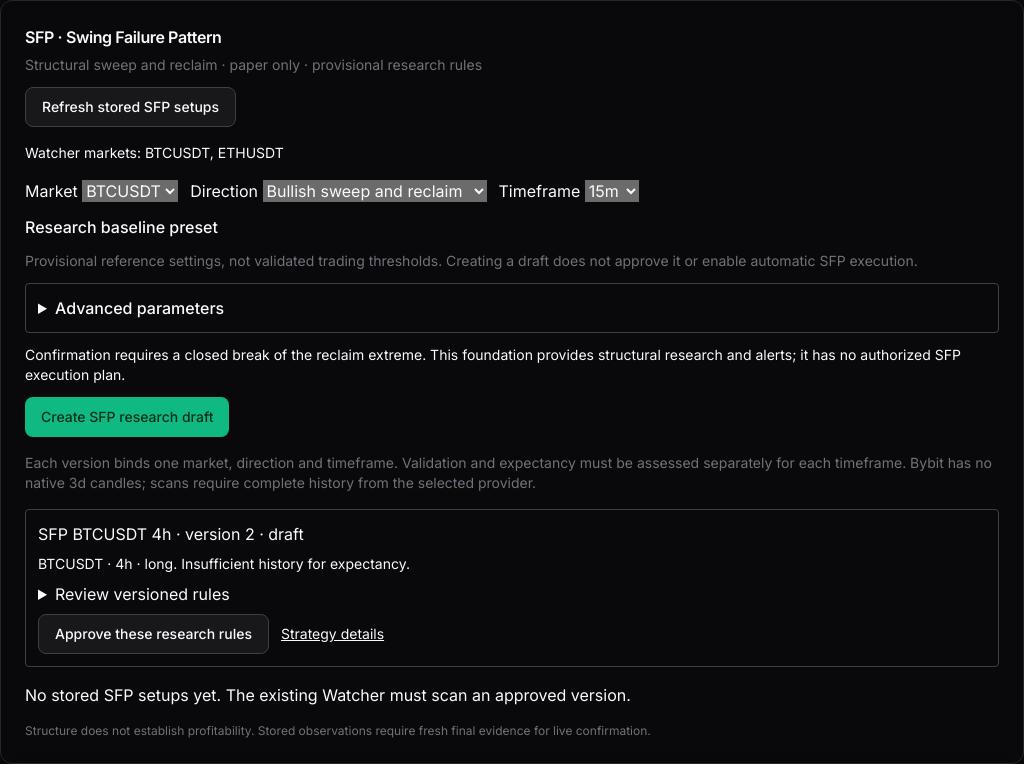
SFP creation and immutable approval › surfaces compile failures and keeps approval gated
Click the button "Approve these research rules": coordinates (154, 634) left=38, top=614, right=269, bottom=654
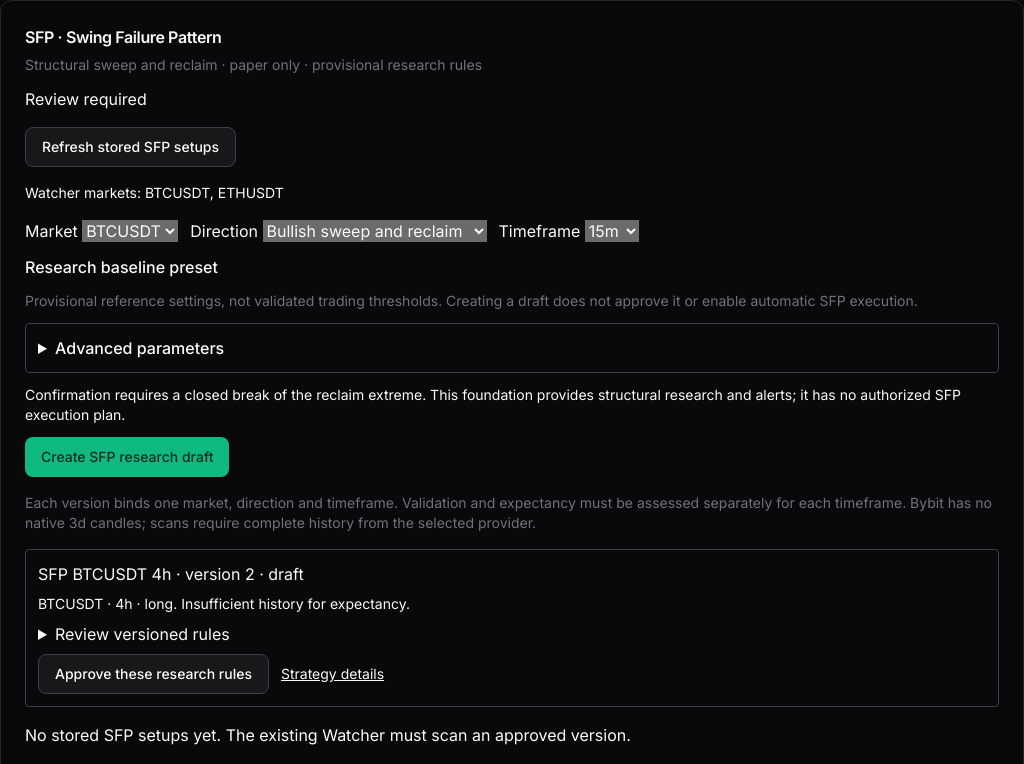
Expected: the message reads "Review required", left=25, top=89, right=147, bottom=109
